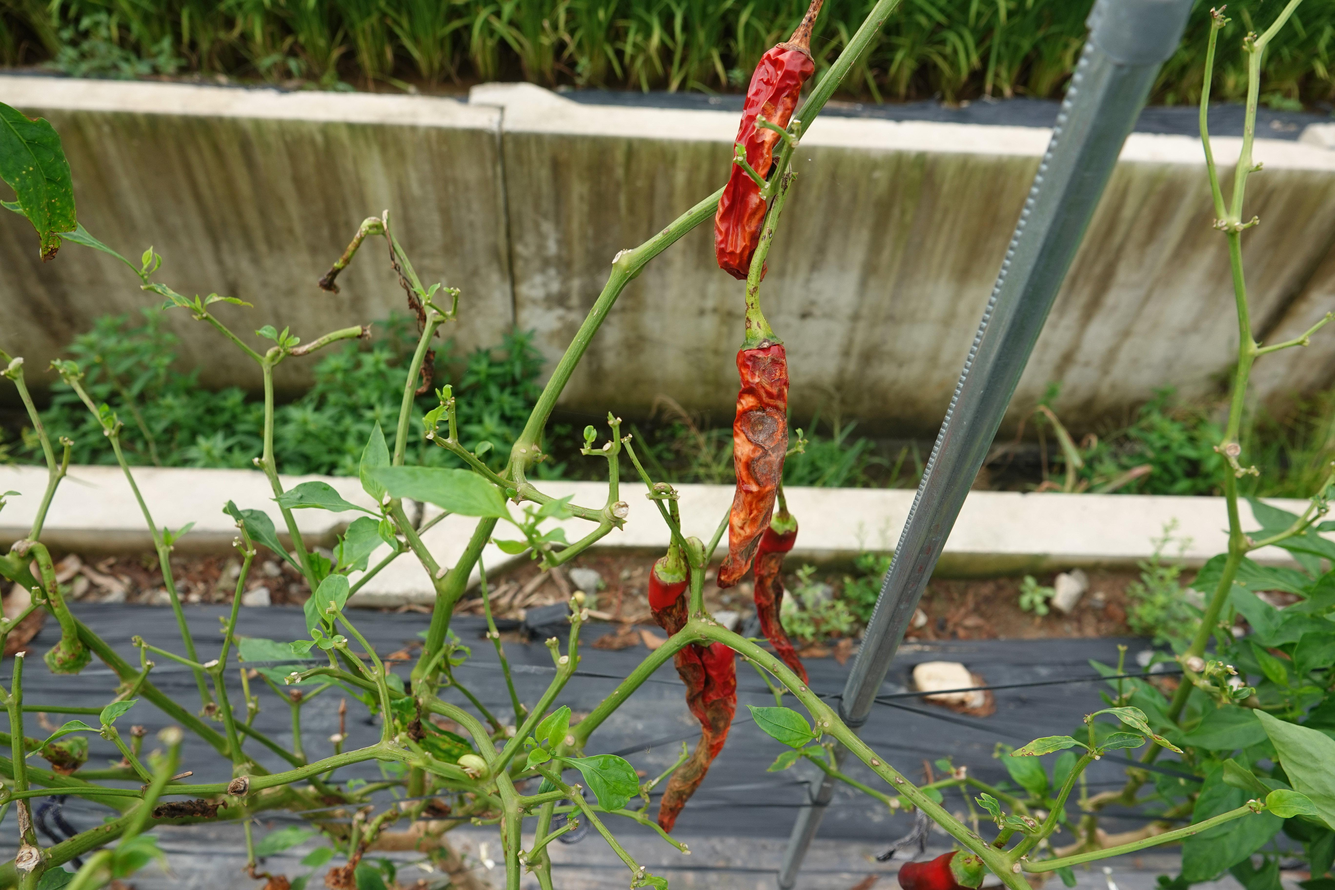Busuk Buah Antraknosa: (710, 33, 824, 289), (645, 537, 739, 834), (726, 334, 805, 603)
